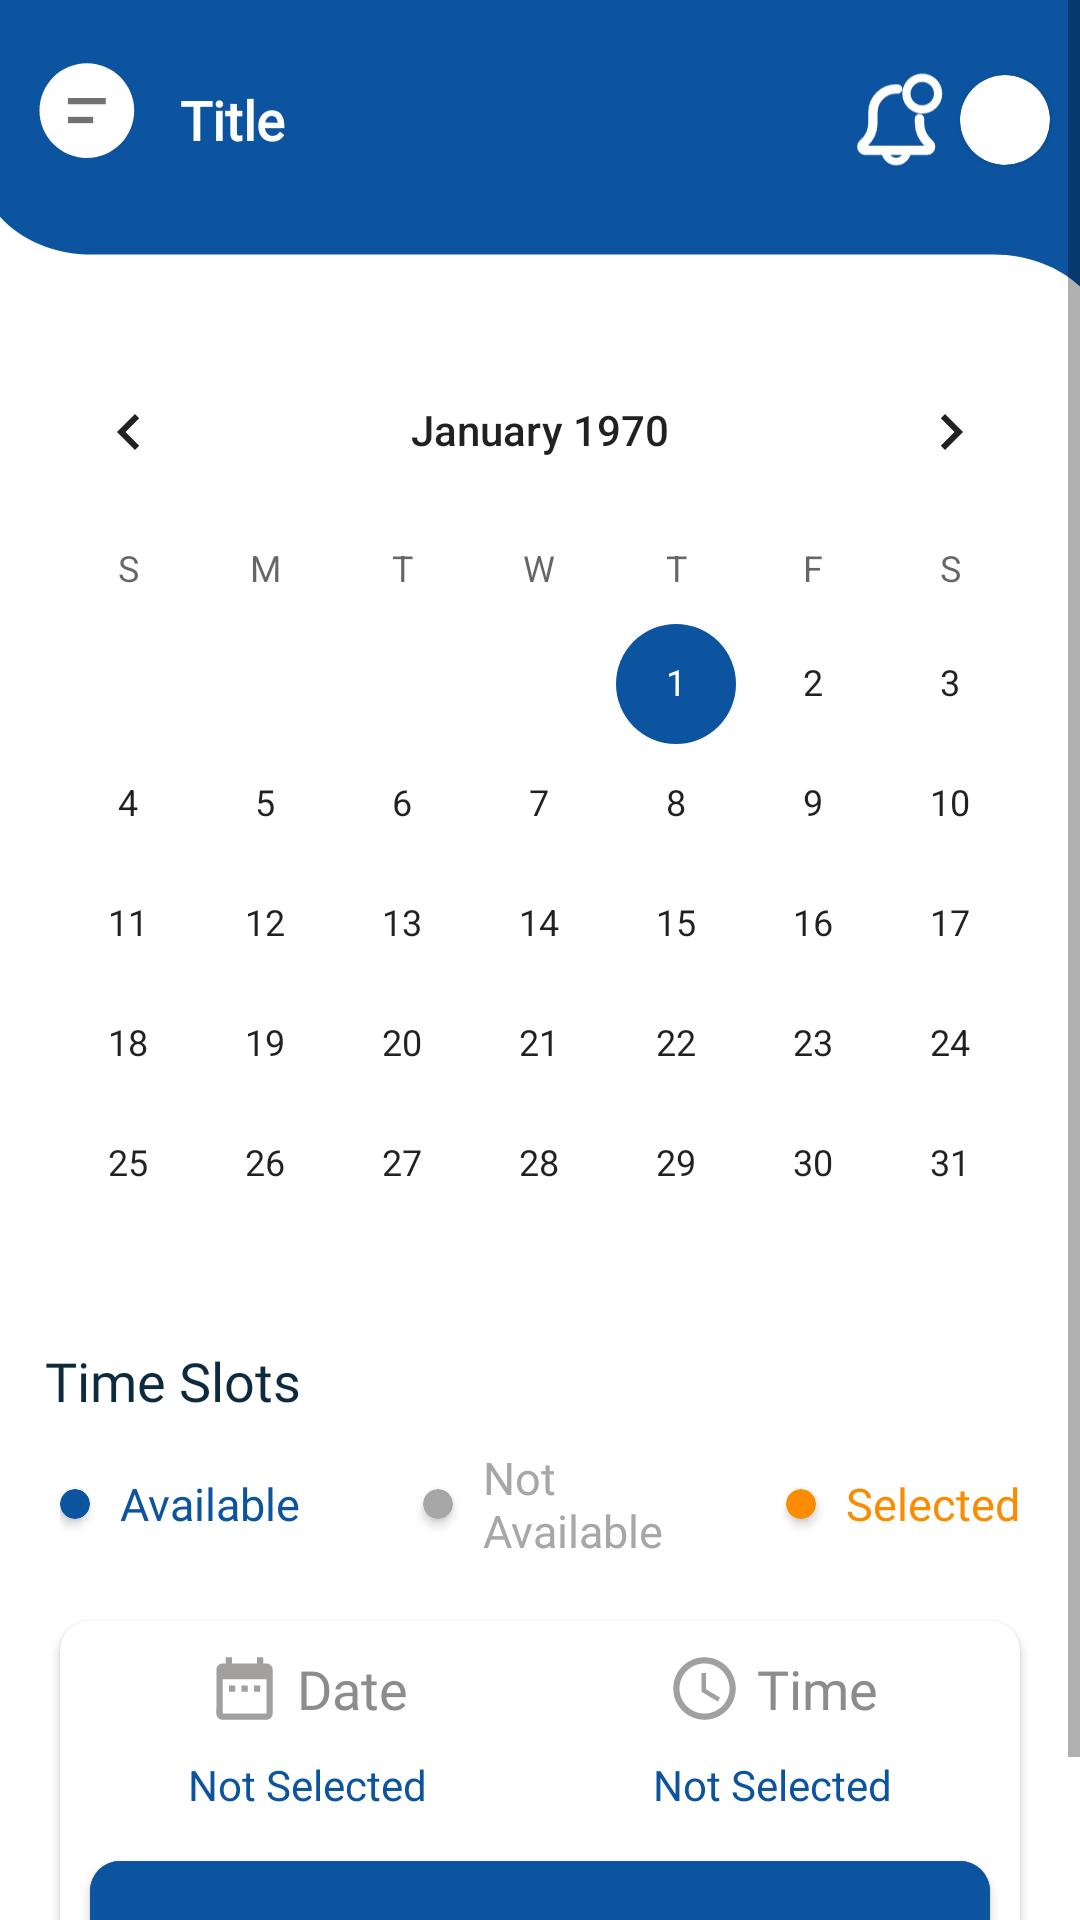

Icon click points for this 1080w x 1920h phone screenshot, format (x,y):
clock: (704,1688)
menu: (87,110)
notification: (900,119)
